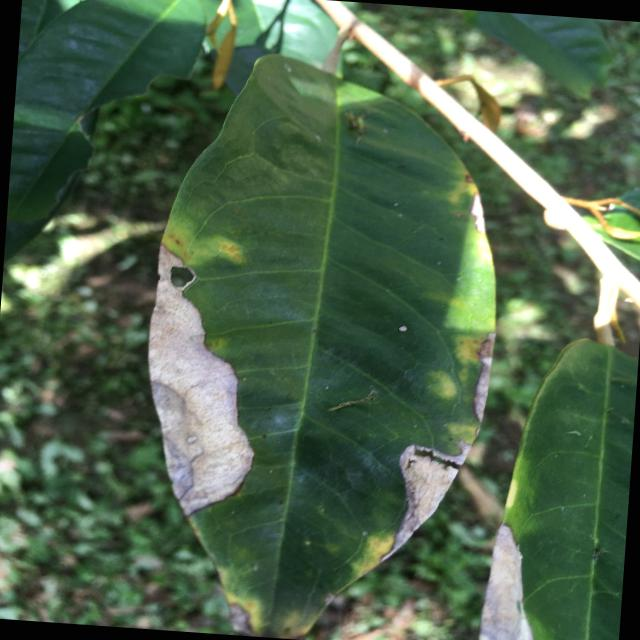Leaf Blight: (114, 37, 523, 639)
